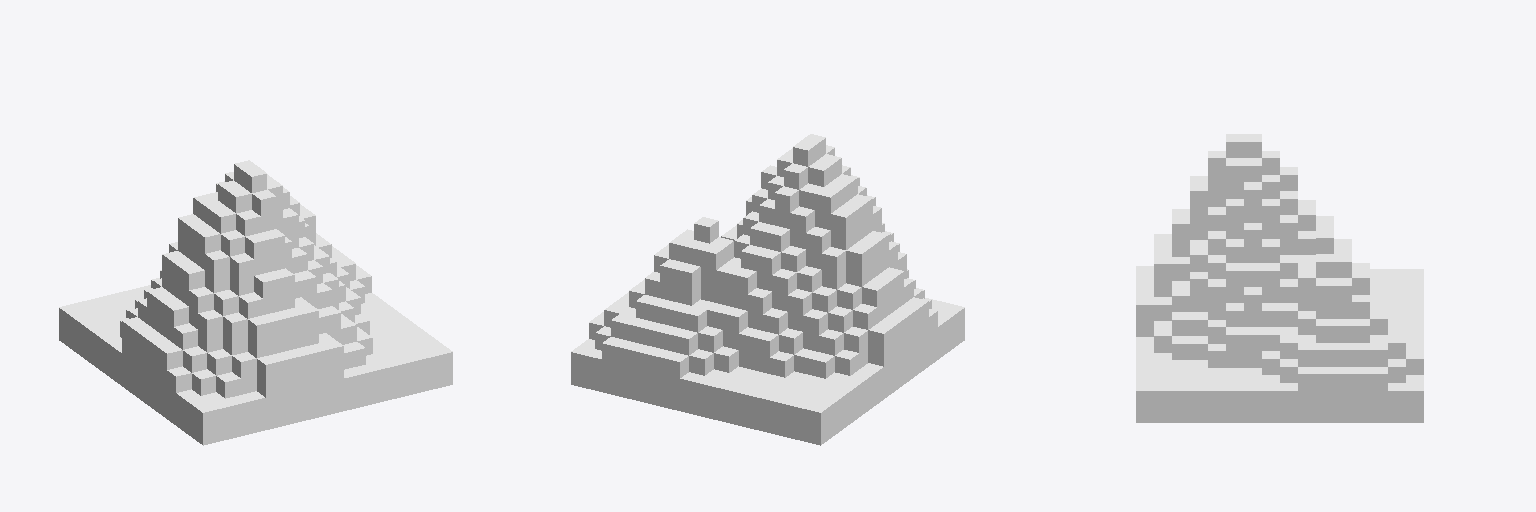
3 renders of one model, left to right at view 1: azimuth 30°, elevation 25°; view 2: azimuth 150°, elevation 25°; view 3: azimuth 270°, elevation 25°, orthographic.
Visible parts, largest first — view 1: object 1; view 2: object 1; view 3: object 1.
Part boxes in pixels (x1,y1,x2,y2): object 1: (59,160,452,445); object 1: (571,134,964,445); object 1: (1136,134,1423,422).
Size of the model in its own units: 1.6 by 1.3 by 1.6.
1 materials, 1 textured.